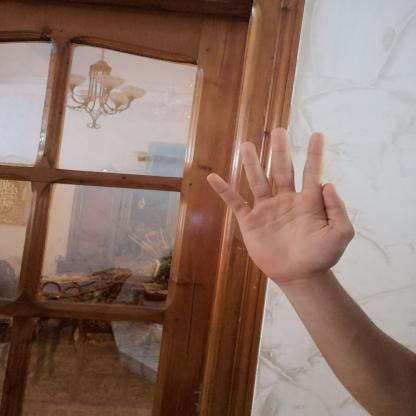SHEEN: (191, 120, 375, 291)
